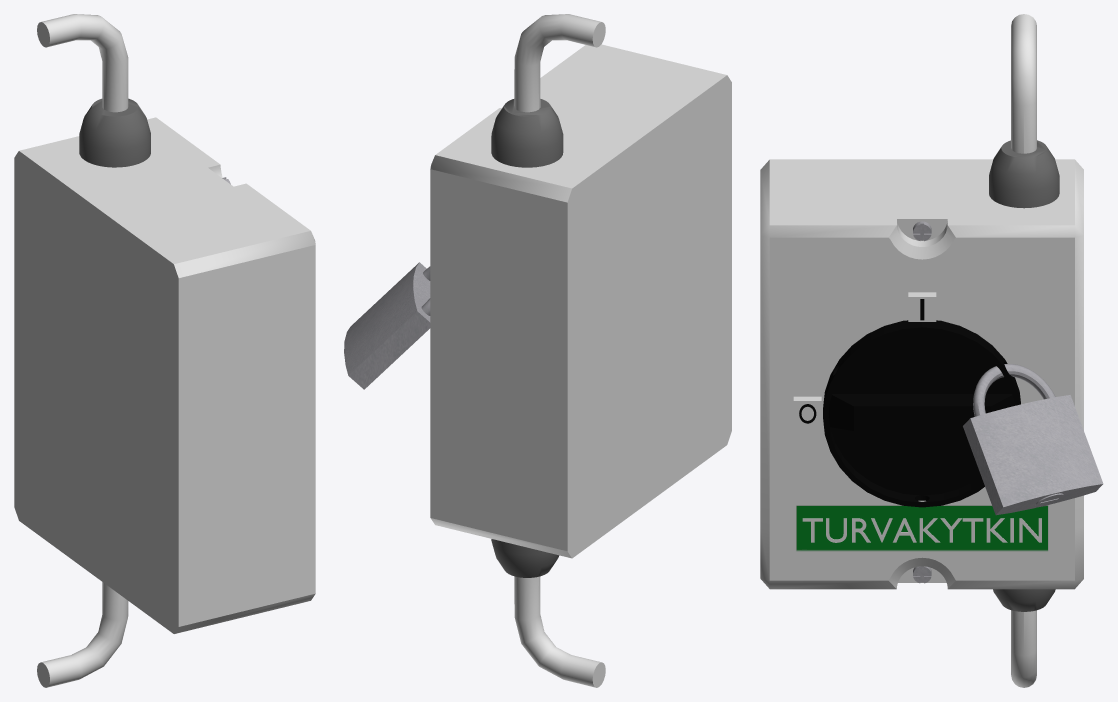
Rendered from Elec_turvakytkin.fbx.
3 renders of one model, left to right at view 1: azimuth 30°, elevation 25°; view 2: azimuth 150°, elevation 25°; view 3: azimuth 270°, elevation 25°, orthographic.
Parts seen in each view (by area): view 1: Cube; view 2: Cube; view 3: Cube.
Part boxes in pixels (left/top/right/bottom): Cube: left=14, top=14, right=315, bottom=687; Cube: left=344, top=14, right=731, bottom=687; Cube: left=760, top=14, right=1103, bottom=687.
Size of the model in its own units: 182 by 446 by 212.
Materials: 1 (1 with a texture image).
